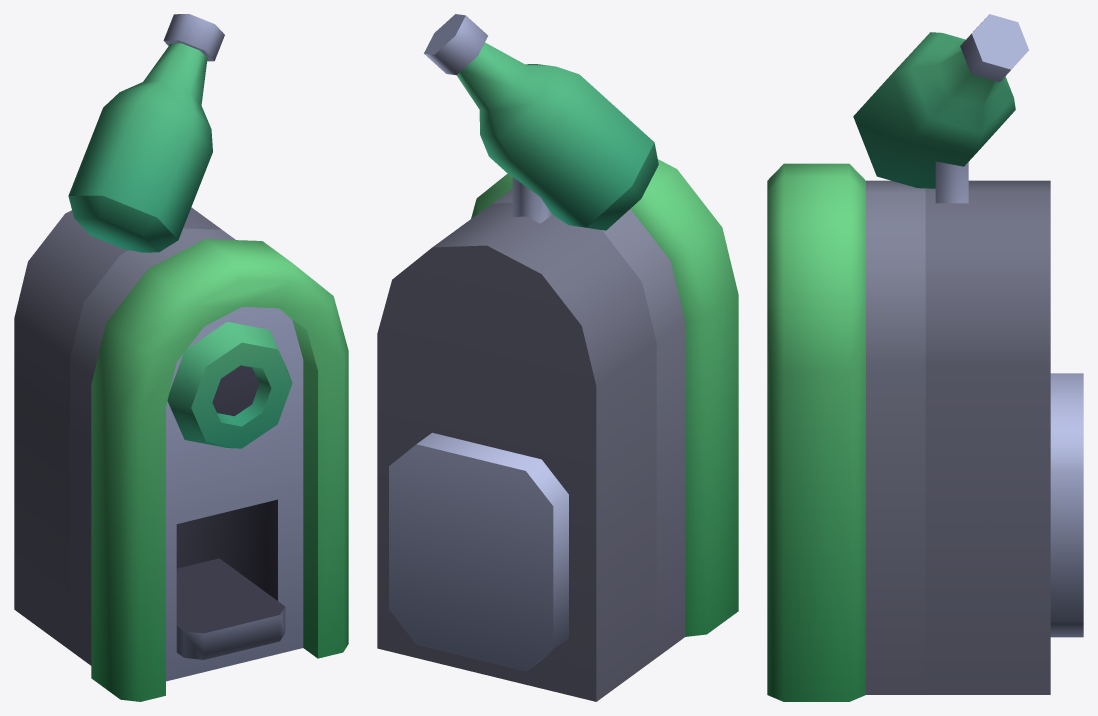
The model's file is bottle-return.glb.
The picture shows the model from 3 angles, left to right: view 1: azimuth 30°, elevation 25°; view 2: azimuth 150°, elevation 25°; view 3: azimuth 270°, elevation 25°; orthographic projection. The views are drawn at different scales.
Parts seen in each view (by area): view 1: bottle-return; view 2: bottle-return; view 3: bottle-return.
Boxes of the visible parts, <box> form: bottle-return: <box>14,14,348,701</box>; bottle-return: <box>377,14,738,701</box>; bottle-return: <box>767,14,1083,701</box>.
Bounding box in the file's own units: 0.45 × 1.09 × 0.481.
1 material, 1 textured.
